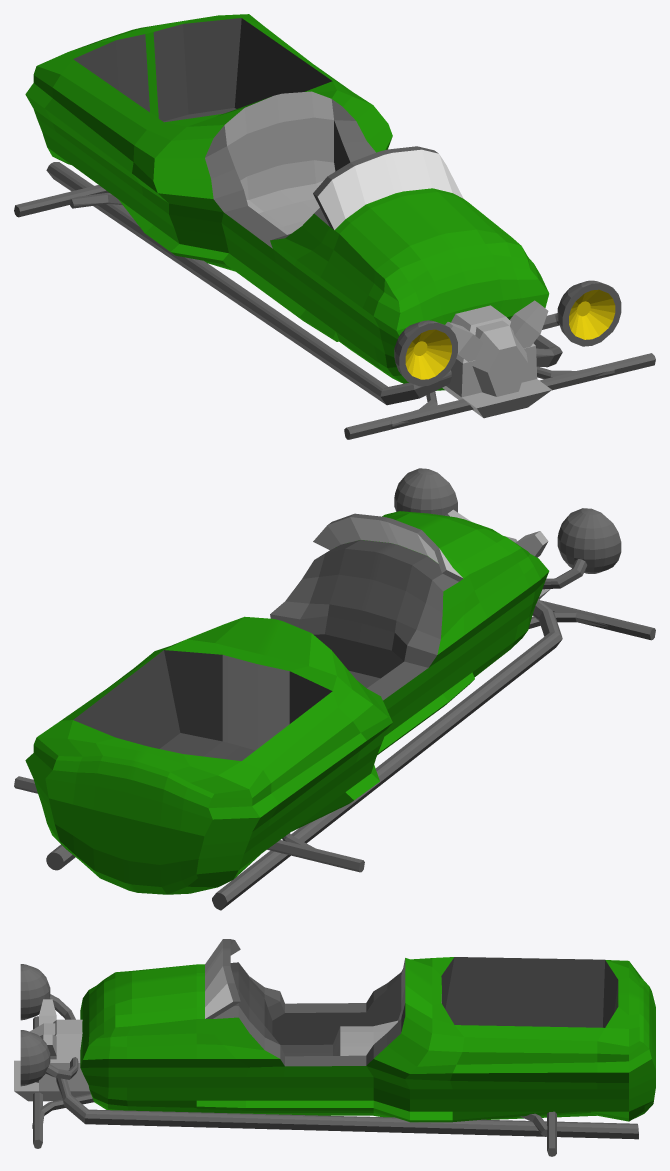
Rendered from AceNSpadeREducedBody.fbx.
The picture shows the model from 3 angles, top to bottom: view 1: azimuth 30°, elevation 25°; view 2: azimuth 150°, elevation 25°; view 3: azimuth 270°, elevation 25°; orthographic projection. The views are drawn at different scales.
Parts seen in each view (by area): view 1: AceNSpadeReducedBody; view 2: AceNSpadeReducedBody; view 3: AceNSpadeReducedBody.
Part boxes in pixels (box(x1,y1,x2,y2)): AceNSpadeReducedBody: box(14, 14, 655, 439); AceNSpadeReducedBody: box(14, 468, 655, 910); AceNSpadeReducedBody: box(14, 939, 655, 1156).
Size of the model in its own units: 12.45 by 6.56 by 24.26.
